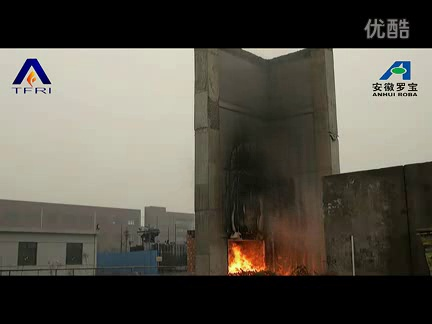fire: (229, 242, 266, 273)
